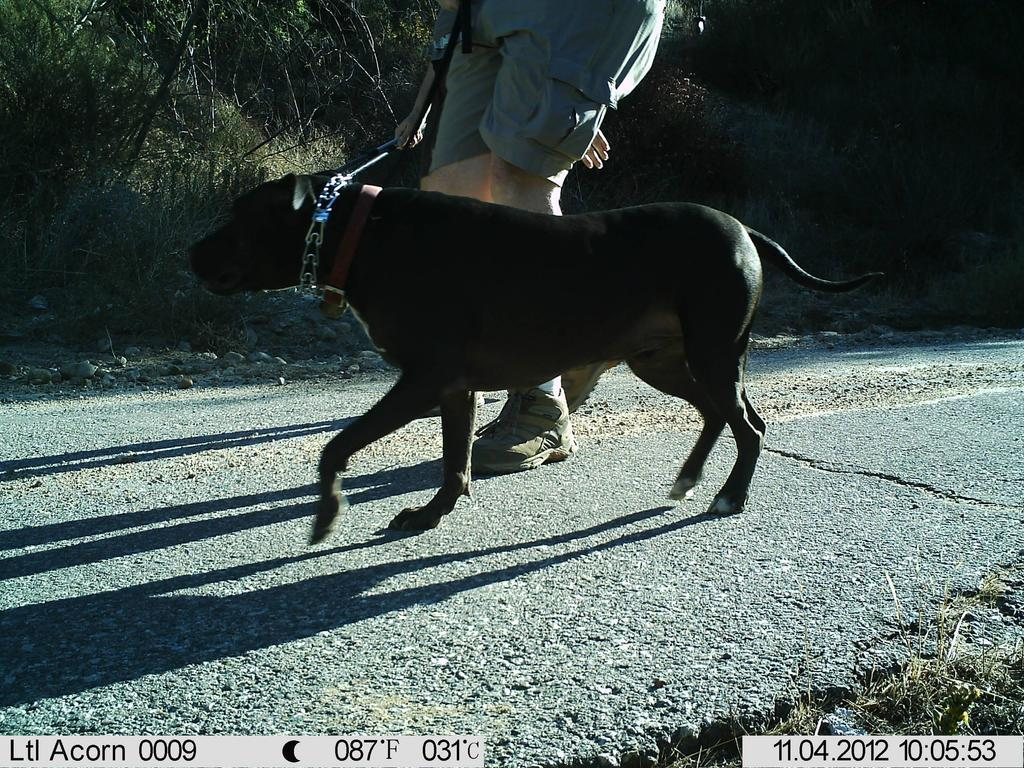dog: (181, 154, 904, 553)
